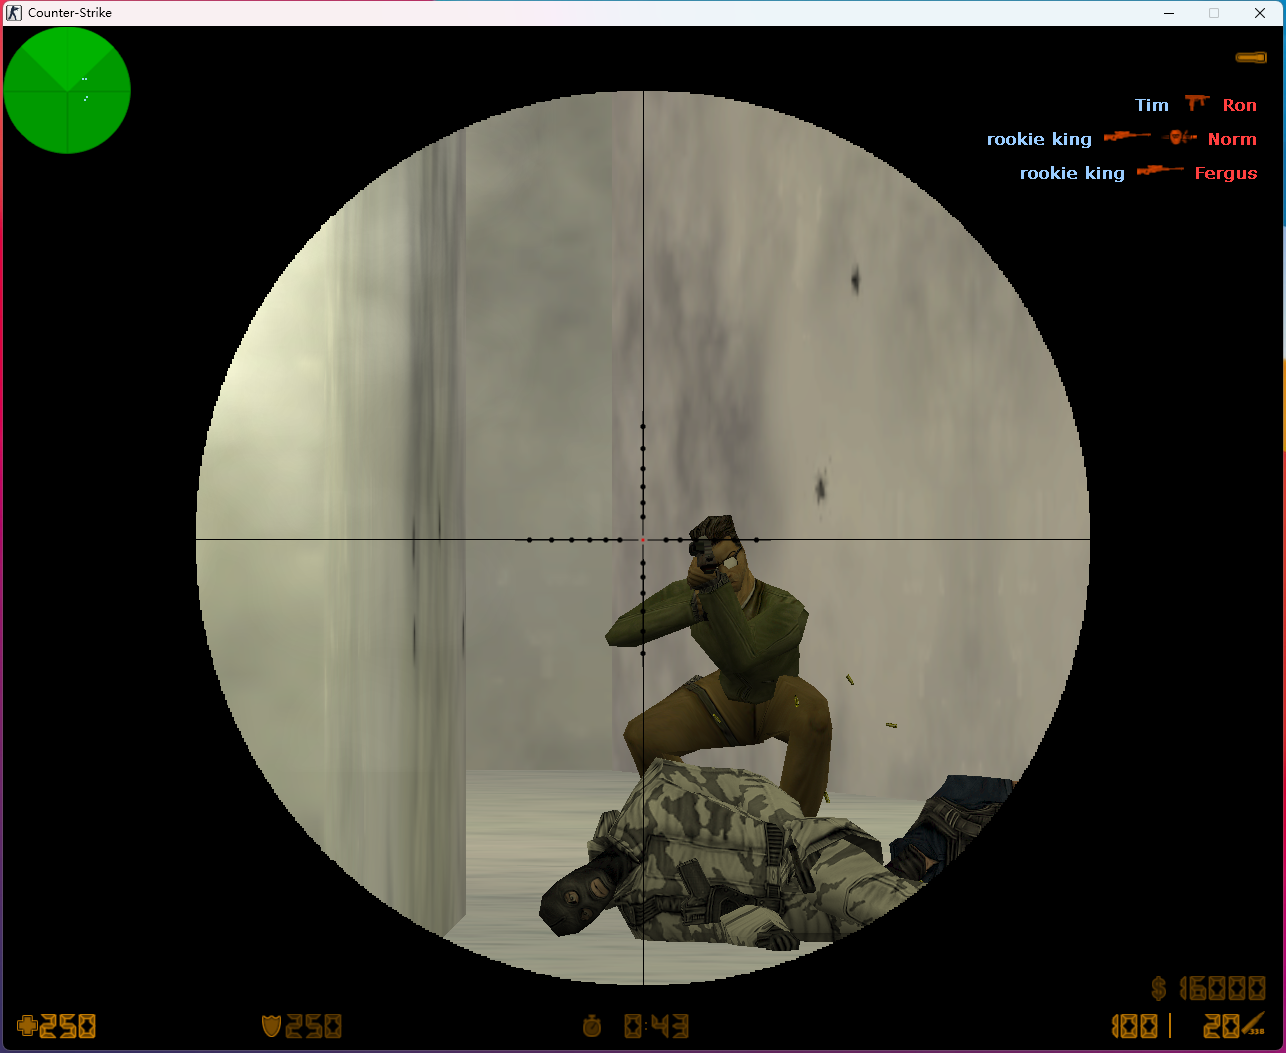T: (606, 516, 831, 827)
dead: (537, 759, 941, 950)
